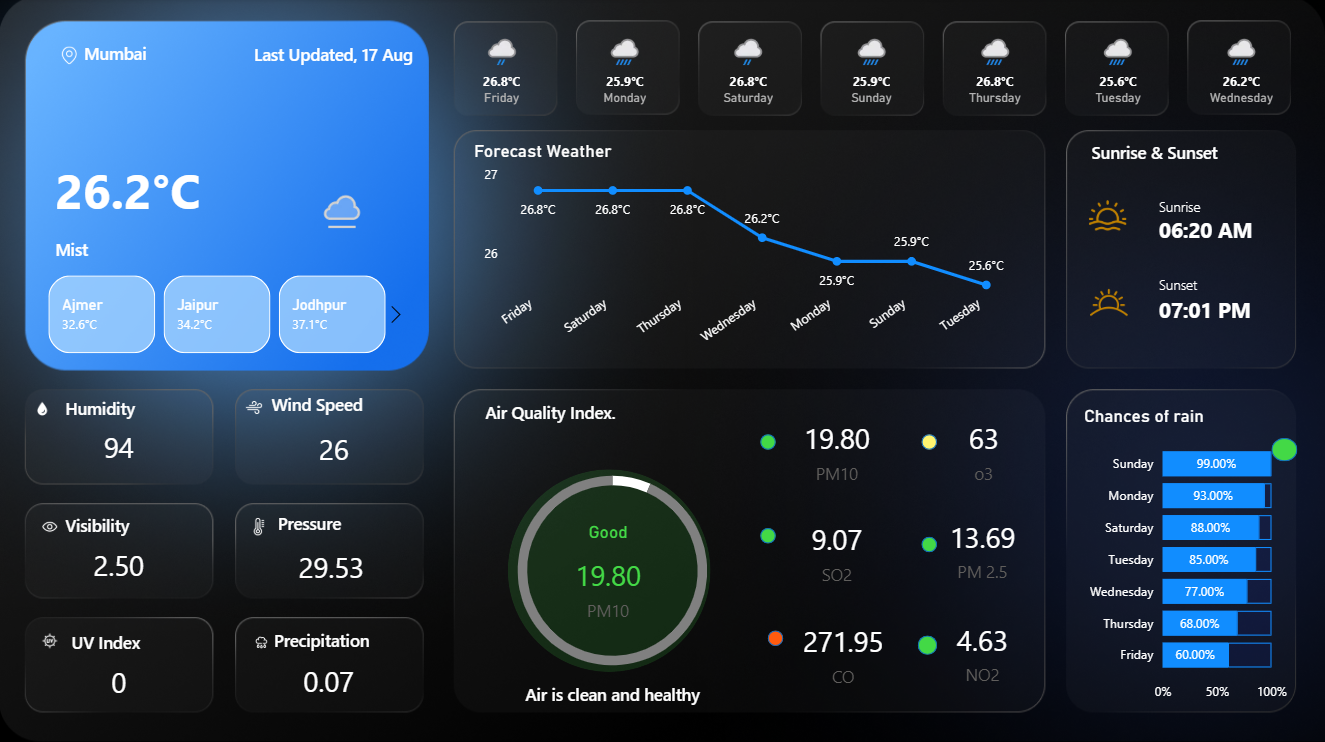

This screenshot's page, from the dashboard's own definition file:
{"tool":"powerbi","page":{"name":"Page 1","canvas":[1280,720],"ordinal":0},"visuals":[{"type":"advancedSlicerVisual","fields":{"Values":["Locations.location.name"]},"box":[23.3,263.5,376,85.1],"z":0},{"type":"shape","box":[54.9,153.7,266.2,59],"z":1000},{"type":"shape","box":[54.9,231.9,266.2,26.1],"z":2000},{"type":"shape","box":[81.9,42.6,133,26.3],"z":3000},{"type":"shape","box":[237.4,43.3,161.9,25.2],"z":4000},{"type":"cardVisual","fields":{"Data":["Min(Current.current.condition.icon)"]},"box":[268.2,160,105.5,84.5],"z":5000},{"type":"image","box":[45.9,42.6,43.7,26.3],"z":6000},{"type":"image","box":[35,496.7,28.3,26.7],"z":7000},{"type":"image","box":[27.4,384.7,27.4,23.7],"z":8000},{"type":"image","box":[233.3,381.7,26.7,27.2],"z":9000},{"type":"image","box":[237.2,496.7,26.7,26.7],"z":10000},{"type":"image","box":[35,608.3,28.3,25],"z":11000},{"type":"image","box":[237.2,610,31.1,23.3],"z":12000},{"type":"shape","title":"Humidity","box":[63.8,385,117.5,23.8],"z":13000},{"type":"shape","title":"Visibility","box":[63.8,498.8,117.5,23.8],"z":14000},{"type":"shape","title":"Wind Speed","box":[262.5,381.2,117.5,23.8],"z":15000},{"type":"shape","title":"Precipitation","box":[265,608.8,123.8,25],"z":16000},{"type":"shape","title":"Pressure","box":[268.8,496.2,117.5,23.8],"z":17000},{"type":"shape","title":"UV Index","box":[70,610,117.5,23.8],"z":18000},{"type":"card","fields":{"Values":["Sum(Current.current.humidity)"]},"box":[49.2,408.3,132.5,55],"z":19000},{"type":"card","fields":{"Values":["Sum(Current.current.uv)"]},"box":[50,634.2,132.5,55],"z":20000},{"type":"card","fields":{"Values":["Sum(Current.current.pressure_in)"]},"box":[254.2,523.3,132.5,55],"z":21000},{"type":"card","fields":{"Values":["Sum(Current.current.vis_km)"]},"box":[49.2,520.8,132.5,55],"z":22000},{"type":"card","fields":{"Values":["Sum(Current.current.wind_kph)"]},"box":[256.7,409.2,132.5,55],"z":23000},{"type":"card","fields":{"Values":["Sum(Current.current.precip_in)"]},"box":[252.5,633.3,132.5,55],"z":24000},{"type":"advancedSlicerVisual","fields":{"Values":["Forecast_Day.Day_Name"]},"box":[425,22.5,837.5,93.8],"z":25000},{"type":"lineChart","title":"Forecast Weather ","fields":{"Y":["Sum(Forecast_Day.forecast.forecastday.day.avgtemp_c)"],"Category":["Forecast_Day.Day_Name"]},"box":[453.3,137.8,533.3,212.2],"z":26000},{"type":"shape","title":"Sunrise & Sunset","box":[1054.5,137.3,169.1,22.7],"z":27000},{"type":"shape","box":[1120.1,286.8,132.7,30.9],"z":28000},{"type":"shape","box":[1119,210.1,135,28.8],"z":29000},{"type":"shape","title":"Sunset","box":[1119.2,267.7,133.6,19.1],"z":30000},{"type":"shape","title":"Sunrise","box":[1120.1,191.3,133.6,19.1],"z":31000},{"type":"image","box":[1041.9,263.8,57.5,59.4],"z":32000},{"type":"image","box":[1047.5,187.5,45.6,46.2],"z":33000},{"type":"hundredPercentStackedBarChart","title":"Chances of rain ","fields":{"Category":["Forecast_Day.Day_Name"],"Y":["Sum(Forecast_Day.forecast.forecastday.day.daily_chance_of_rain)","Locations.Left_value_rain"]},"box":[1042,393,206,295],"z":34000},{"type":"card","title":"PM10","fields":{"Values":["Sum(Current.current.air_quality.pm10)"]},"box":[760,400,97.5,72.5],"z":35000},{"type":"card","title":"PM10","fields":{"Values":["Sum(Current.current.air_quality.no2)"]},"box":[900,595,98.8,73.8],"z":36000},{"type":"card","title":"PM10","fields":{"Values":["Sum(Current.current.air_quality.co)"]},"box":[766.2,596.9,97.7,72.3],"z":37000},{"type":"card","title":"PM10","fields":{"Values":["Sum(Current.current.air_quality.pm2_5)"]},"box":[900,496.2,98.8,72.5],"z":38000},{"type":"card","title":"PM10","fields":{"Values":["Sum(Current.current.air_quality.so2)"]},"box":[760,498.8,97.5,72.5],"z":39000},{"type":"card","title":"PM10","fields":{"Values":["Sum(Current.current.air_quality.o3)"]},"box":[901.2,400,98.8,72.5],"z":40000},{"type":"shape","box":[741.5,610,15,15],"z":41000},{"type":"shape","box":[735,421.2,15,15],"z":42000},{"type":"shape","box":[735,511.2,15,15],"z":43000},{"type":"shape","box":[1228.8,425,25,22.5],"z":44000},{"type":"shape","box":[890,421.2,15,15],"z":45000},{"type":"shape","box":[491.4,454.3,195.7,195.7],"z":46000},{"type":"shape","box":[890,520,15,15],"z":47000},{"type":"shape","box":[886.2,615,18.8,18.8],"z":48000},{"type":"card","fields":{"Values":["Sum(Current.current.air_quality.pm10)"]},"box":[526,506,124,109],"z":49000},{"type":"donutChart","title":"PM10","fields":{"Y":["Sum(Current.current.air_quality.pm10)","Locations.Left_value_pm10"]},"box":[472.9,427.1,238.6,251.4],"z":50000},{"type":"shape","title":"Air Quality Index.","box":[469,388,241,23],"z":51000},{"type":"shape","box":[448.3,660.8,286.7,21.7],"z":52000}]}

Visuals, with their boxes in screenshot pixels (x1, y1, x2, y2), scaled from the page's 1280x720 canvas onto the 1325x742 screenshot:
advancedSlicerVisual - Locations.location.name: crop(24, 272, 413, 359)
shape: crop(57, 158, 332, 219)
shape: crop(57, 239, 332, 266)
shape: crop(85, 44, 222, 71)
shape: crop(246, 45, 413, 71)
cardVisual - Min(Current.current.condition.icon): crop(278, 165, 387, 252)
image: crop(48, 44, 93, 71)
image: crop(36, 512, 66, 539)
image: crop(28, 396, 57, 421)
image: crop(242, 393, 269, 421)
image: crop(246, 512, 273, 539)
image: crop(36, 627, 66, 653)
image: crop(246, 629, 278, 653)
"Humidity" shape: crop(66, 397, 188, 421)
"Visibility" shape: crop(66, 514, 188, 539)
"Wind Speed" shape: crop(272, 393, 393, 417)
"Precipitation" shape: crop(274, 627, 402, 653)
"Pressure" shape: crop(278, 511, 400, 536)
"UV Index" shape: crop(72, 629, 194, 653)
card - Sum(Current.current.humidity): crop(51, 421, 188, 477)
card - Sum(Current.current.uv): crop(52, 654, 189, 710)
card - Sum(Current.current.pressure_in): crop(263, 539, 400, 596)
card - Sum(Current.current.vis_km): crop(51, 537, 188, 593)
card - Sum(Current.current.wind_kph): crop(266, 422, 403, 478)
card - Sum(Current.current.precip_in): crop(261, 653, 399, 709)
advancedSlicerVisual - Forecast_Day.Day_Name: crop(440, 23, 1307, 120)
"Forecast Weather " lineChart: crop(469, 142, 1021, 361)
"Sunrise & Sunset" shape: crop(1092, 141, 1267, 165)
shape: crop(1159, 296, 1297, 327)
shape: crop(1158, 217, 1298, 246)
"Sunset" shape: crop(1159, 276, 1297, 296)
"Sunrise" shape: crop(1159, 197, 1298, 217)
image: crop(1079, 272, 1138, 333)
image: crop(1084, 193, 1132, 241)
"Chances of rain " hundredPercentStackedBarChart: crop(1079, 405, 1292, 709)
"PM10" card: crop(787, 412, 888, 487)
"PM10" card: crop(932, 613, 1034, 689)
"PM10" card: crop(793, 615, 894, 690)
"PM10" card: crop(932, 511, 1034, 586)
"PM10" card: crop(787, 514, 888, 589)
"PM10" card: crop(933, 412, 1035, 487)
shape: crop(768, 629, 783, 644)
shape: crop(761, 434, 776, 450)
shape: crop(761, 527, 776, 542)
shape: crop(1272, 438, 1298, 461)
shape: crop(921, 434, 937, 450)
shape: crop(509, 468, 711, 670)
shape: crop(921, 536, 937, 551)
shape: crop(917, 634, 937, 653)
card - Sum(Current.current.air_quality.pm10): crop(544, 521, 673, 634)
"PM10" donutChart: crop(490, 440, 737, 699)
"Air Quality Index." shape: crop(485, 400, 735, 424)
shape: crop(464, 681, 761, 703)
